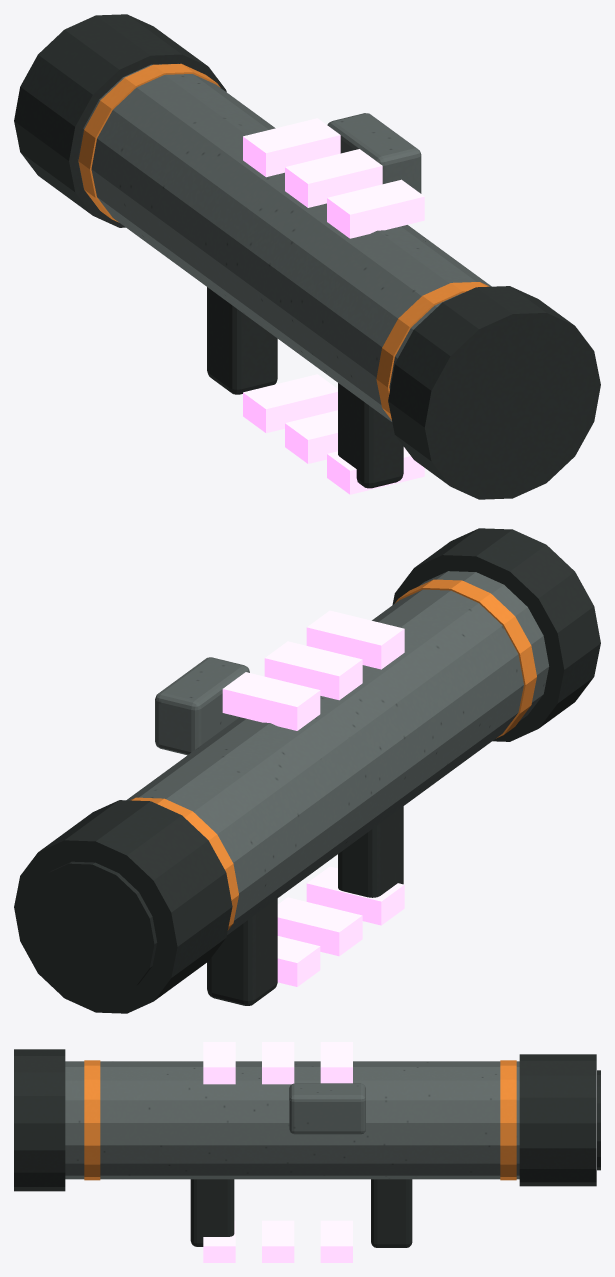
File: rocket_3.glb
3 views of the same model, one above another, from view 1: azimuth 30°, elevation 25°; view 2: azimuth 150°, elevation 25°; view 3: azimuth 270°, elevation 25° (orthographic). The views are drawn at different scales.
Parts seen in each view (by area): view 1: Weapon_rocket, GRADE_3_RAIL_0_1, GRADE_3_RAIL_2_1, GRADE_3_RAIL_1_1, GRADE_3_RAIL_2_-1, GRADE_3_RAIL_1_-1, GRADE_3_RAIL_0_-1; view 2: Weapon_rocket, GRADE_3_RAIL_2_1, GRADE_3_RAIL_0_1, GRADE_3_RAIL_1_1, GRADE_3_RAIL_1_-1, GRADE_3_RAIL_0_-1, GRADE_3_RAIL_2_-1; view 3: Weapon_rocket, GRADE_3_RAIL_0_1, GRADE_3_RAIL_1_-1, GRADE_3_RAIL_2_-1, GRADE_3_RAIL_1_1, GRADE_3_RAIL_2_1, GRADE_3_RAIL_0_-1.
Boxes of the visible parts, x1,y1,x2,y2 form: Weapon_rocket: [14, 14, 600, 499]; GRADE_3_RAIL_0_1: [327, 179, 424, 238]; GRADE_3_RAIL_2_1: [243, 118, 340, 177]; GRADE_3_RAIL_1_1: [285, 149, 382, 207]; GRADE_3_RAIL_2_-1: [243, 374, 337, 433]; GRADE_3_RAIL_1_-1: [285, 410, 337, 463]; GRADE_3_RAIL_0_-1: [327, 447, 424, 494]; Weapon_rocket: [14, 528, 600, 1013]; GRADE_3_RAIL_2_1: [222, 672, 320, 730]; GRADE_3_RAIL_0_1: [306, 610, 404, 669]; GRADE_3_RAIL_1_1: [264, 641, 362, 700]; GRADE_3_RAIL_1_-1: [277, 897, 362, 956]; GRADE_3_RAIL_0_-1: [306, 866, 404, 925]; GRADE_3_RAIL_2_-1: [277, 936, 320, 986]; Weapon_rocket: [14, 1049, 600, 1247]; GRADE_3_RAIL_0_1: [203, 1042, 235, 1084]; GRADE_3_RAIL_1_-1: [262, 1220, 294, 1262]; GRADE_3_RAIL_2_-1: [320, 1220, 352, 1262]; GRADE_3_RAIL_1_1: [262, 1042, 294, 1084]; GRADE_3_RAIL_2_1: [320, 1042, 352, 1083]; GRADE_3_RAIL_0_-1: [203, 1220, 235, 1262].
Size of the model in its own units: 0.2475 by 0.3371 by 0.917.
Materials: 4 (3 with a texture image).
